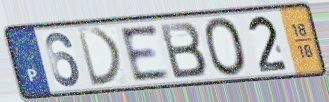2: (247, 14, 289, 74)
6: (44, 30, 82, 88)
B: (157, 20, 209, 81)
D: (75, 26, 125, 89)
E: (117, 22, 173, 84)
O: (201, 15, 250, 78)
